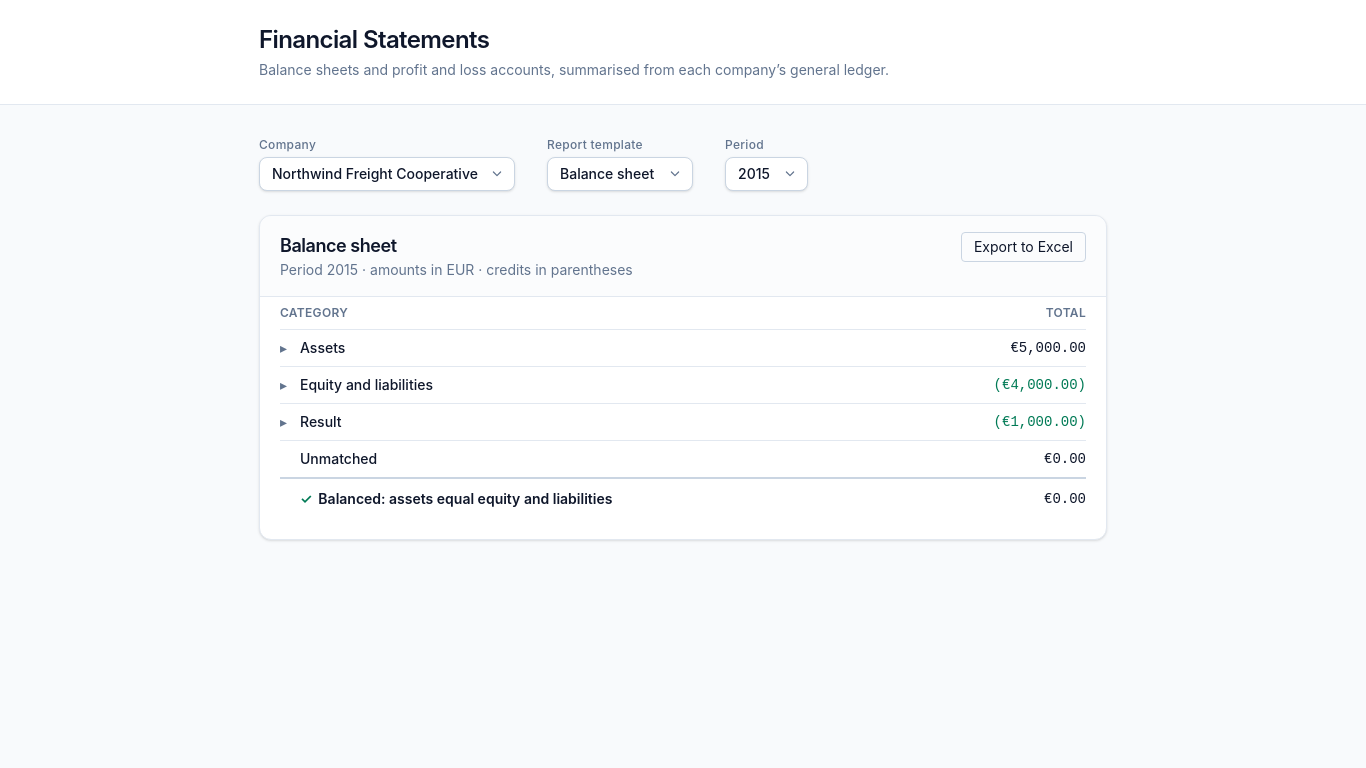
Test: switching Company does not try to keep the previous ReportTemplate or Period
Expected: the row "Assets €5,000.00" is shown, [280,330,1086,366]
Select "Riverside Textiles" in the dropdown labelled "Company" at (387, 174), box [259,157,515,191]
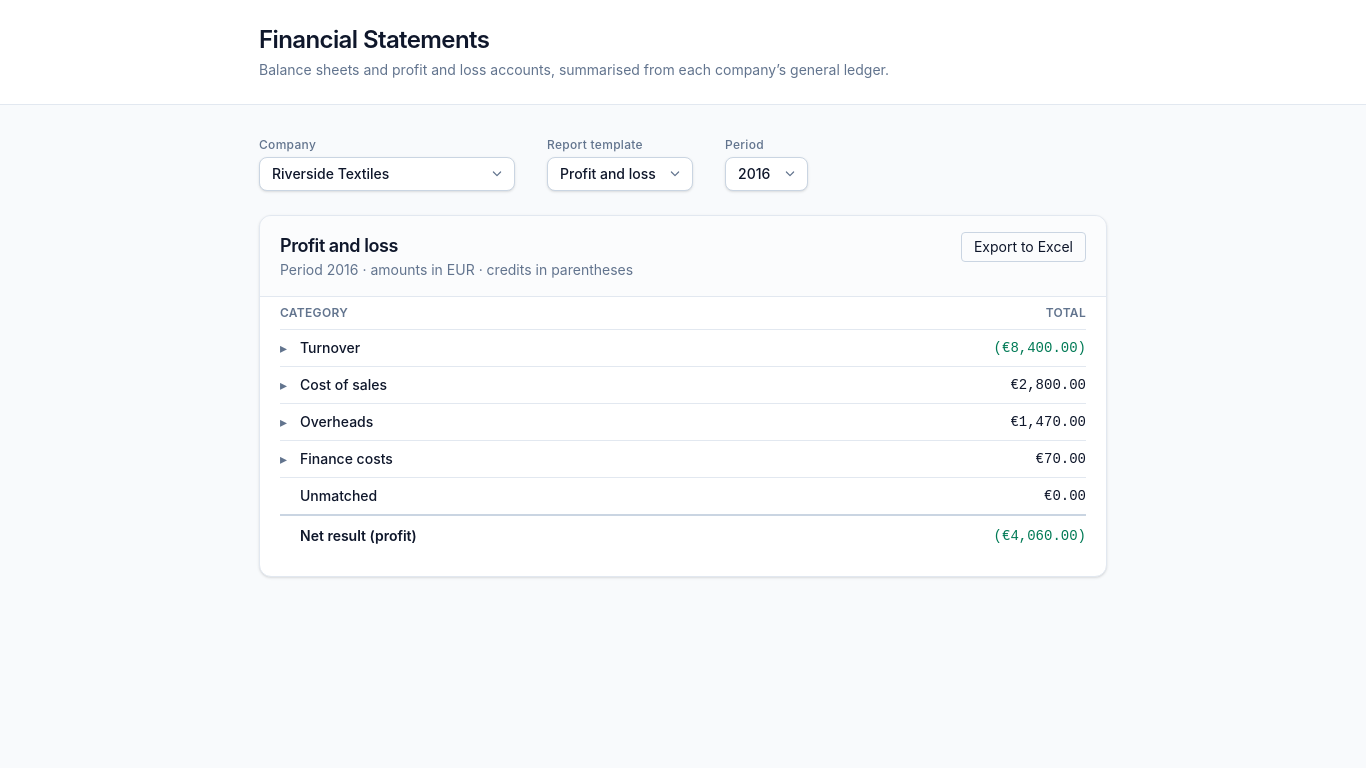
Result: the row "Turnover (€8,400.00)" is shown at [280,330,1086,366]
Result: the dropdown labelled "Period" shows "2016" at [725,157,808,191]
